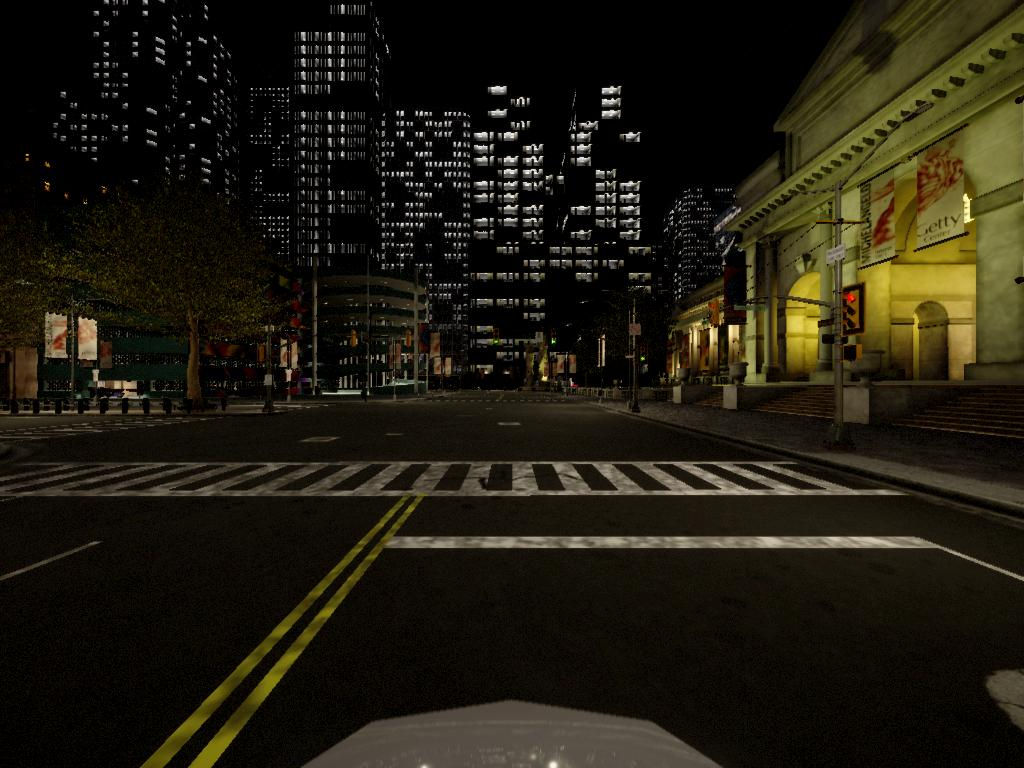traffic_light: (841, 290, 864, 334), (709, 300, 720, 326), (641, 347, 650, 367), (493, 330, 501, 347), (551, 328, 558, 346)
